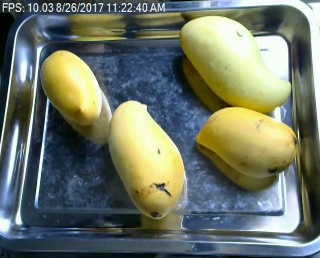Mango: (180, 13, 291, 111), (108, 100, 185, 218), (195, 107, 296, 177), (40, 49, 102, 125)
